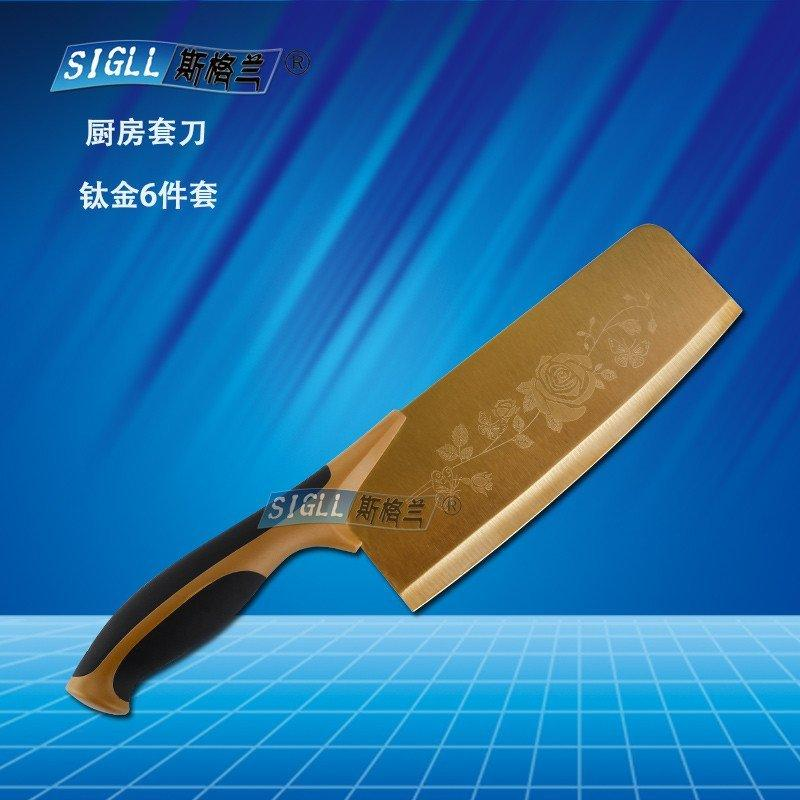knife: (25, 162, 800, 762)
